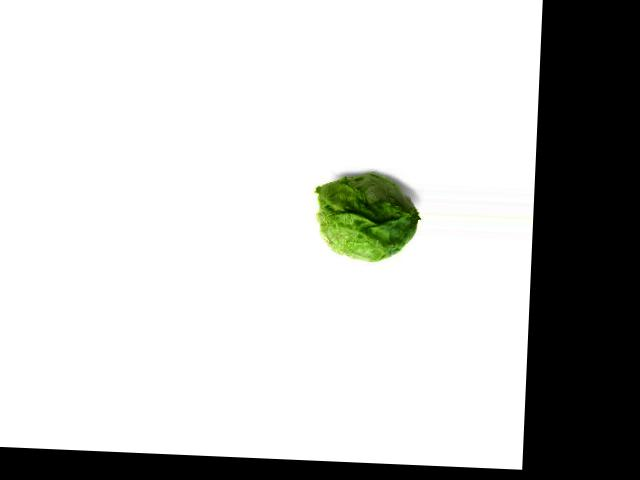lettuce: (313, 166, 420, 270)
